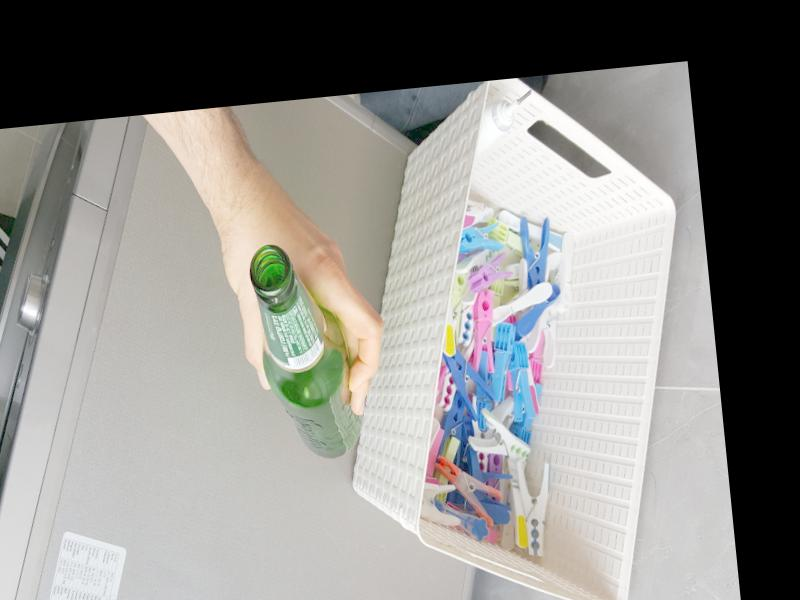Beer: (246, 237, 369, 463)
